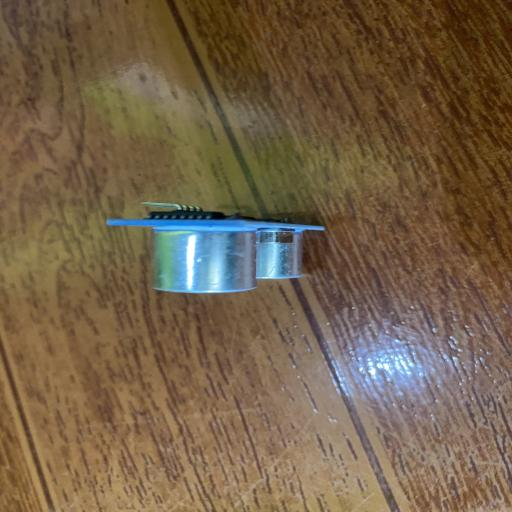Ultrasonic Sensor: (104, 200, 326, 294)
